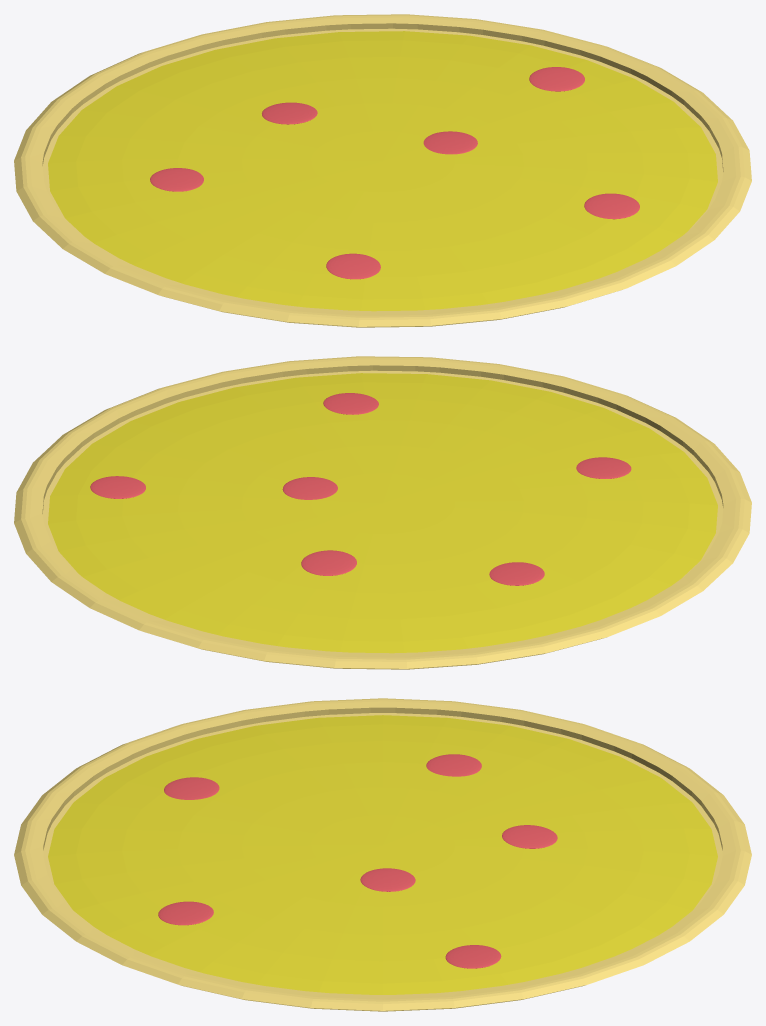
The model's file is POIZZA.fbx.
3 renders of one model, top to bottom at view 1: azimuth 30°, elevation 25°; view 2: azimuth 150°, elevation 25°; view 3: azimuth 270°, elevation 25°, orthographic.
Parts seen in each view (by area): view 1: Sphere, Sphere.005, Sphere.001, Sphere.002, Sphere.006, Sphere.004, Sphere.003; view 2: Sphere, Sphere.003, Sphere.006, Sphere.002, Sphere.004, Sphere.005, Sphere.001; view 3: Sphere, Sphere.005, Sphere.002, Sphere.003, Sphere.004, Sphere.001, Sphere.006.
Part boxes in pixels (bbox=[...]): Sphere: bbox=[14, 14, 751, 327]; Sphere.005: bbox=[584, 193, 639, 219]; Sphere.001: bbox=[326, 253, 380, 279]; Sphere.002: bbox=[529, 67, 584, 91]; Sphere.006: bbox=[150, 168, 203, 191]; Sphere.004: bbox=[423, 131, 477, 154]; Sphere.003: bbox=[262, 102, 317, 124]; Sphere: bbox=[14, 356, 751, 669]; Sphere.003: bbox=[301, 550, 356, 575]; Sphere.006: bbox=[489, 562, 544, 585]; Sphere.002: bbox=[90, 476, 145, 498]; Sphere.004: bbox=[282, 477, 337, 499]; Sphere.005: bbox=[323, 393, 378, 414]; Sphere.001: bbox=[576, 457, 631, 478]; Sphere: bbox=[14, 698, 751, 1011]; Sphere.005: bbox=[158, 901, 213, 925]; Sphere.002: bbox=[445, 945, 501, 968]; Sphere.003: bbox=[502, 825, 557, 848]; Sphere.004: bbox=[360, 868, 415, 891]; Sphere.001: bbox=[164, 777, 219, 799]; Sphere.006: bbox=[426, 754, 481, 776].
Bounding box in the file's own units: 200 × 8.91 × 200.
